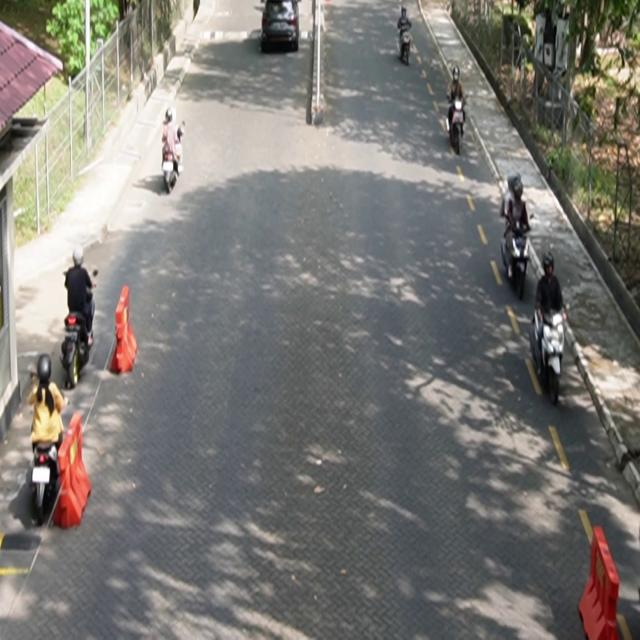car: (262, 1, 301, 53)
